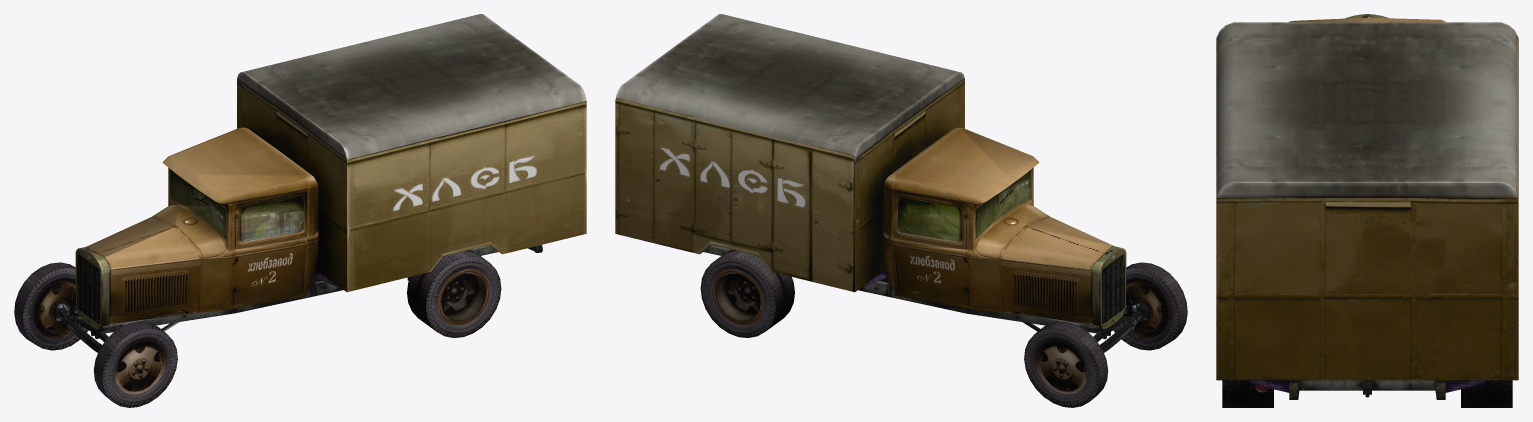
Rendered from TestGroup 1.FBX.
3 renders of one model, left to right at view 1: azimuth 30°, elevation 25°; view 2: azimuth 150°, elevation 25°; view 3: azimuth 270°, elevation 25°, orthographic. The views are drawn at different scales.
Parts seen in each view (by area): view 1: gaz-aa_bread_furgon, gaz-aa_bread_cabin, gaz-aa_bread_wheel, gaz-aa_bread_frame; view 2: gaz-aa_bread_furgon, gaz-aa_bread_cabin, gaz-aa_bread_wheel, gaz-aa_bread_frame; view 3: gaz-aa_bread_furgon, gaz-aa_bread_wheel, gaz-aa_bread_frame, gaz-aa_bread_cabin.
Part boxes in pixels (x1,y1,x2,y2): gaz-aa_bread_furgon: [237, 14, 586, 292]; gaz-aa_bread_cabin: [75, 127, 318, 328]; gaz-aa_bread_wheel: [14, 249, 501, 407]; gaz-aa_bread_frame: [54, 245, 542, 352]; gaz-aa_bread_furgon: [615, 14, 964, 292]; gaz-aa_bread_cabin: [883, 127, 1126, 328]; gaz-aa_bread_wheel: [700, 249, 1187, 407]; gaz-aa_bread_frame: [703, 245, 1147, 352]; gaz-aa_bread_furgon: [1216, 22, 1518, 392]; gaz-aa_bread_wheel: [1222, 380, 1512, 407]; gaz-aa_bread_frame: [1255, 380, 1445, 399]; gaz-aa_bread_cabin: [1289, 14, 1445, 22].
Bounding box in the file's own units: 5.06 × 2.04 × 2.24.
